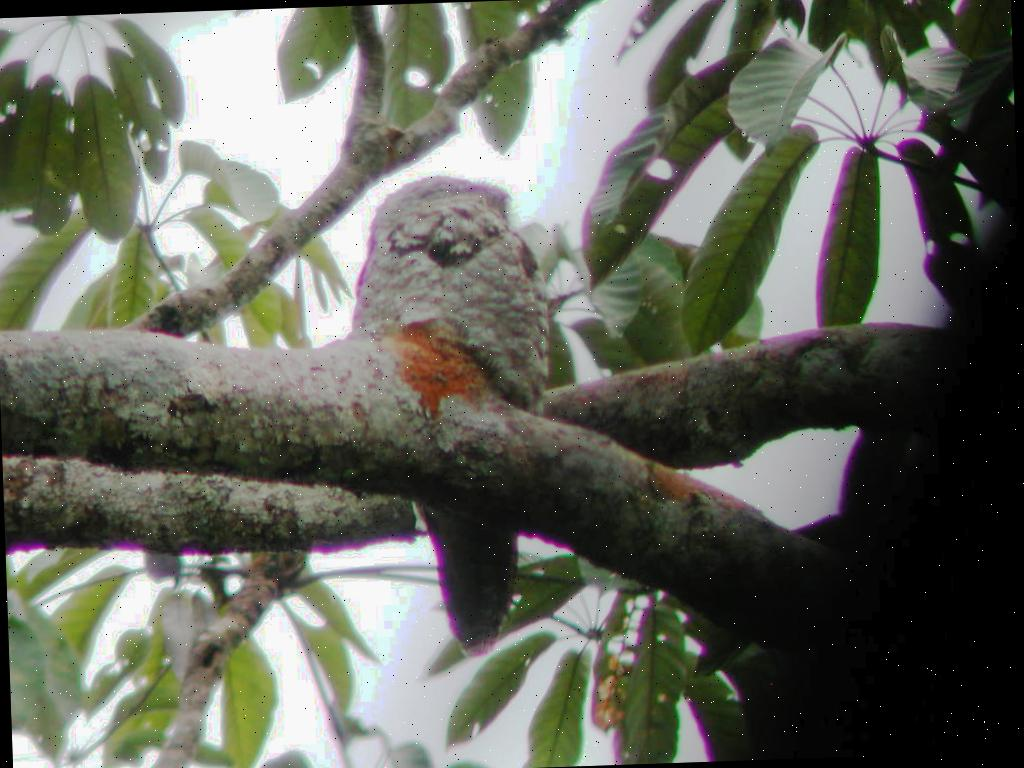Owl: (348, 170, 561, 656)
